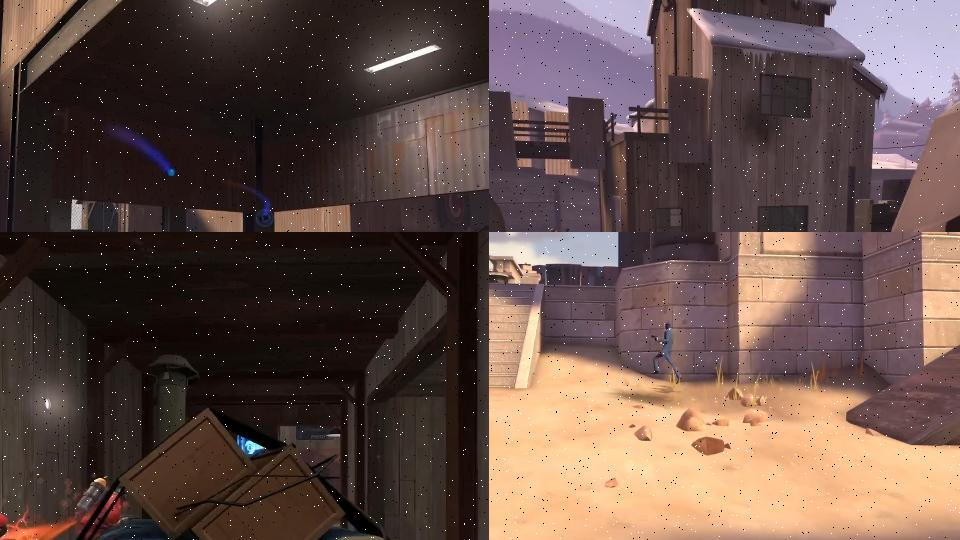Enemy: (71, 468, 132, 540), (651, 322, 681, 382)
